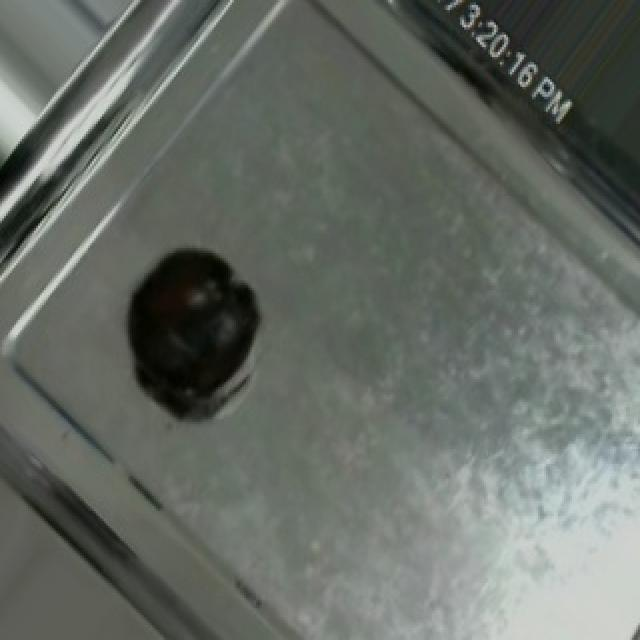Fruit: (106, 228, 274, 417)
